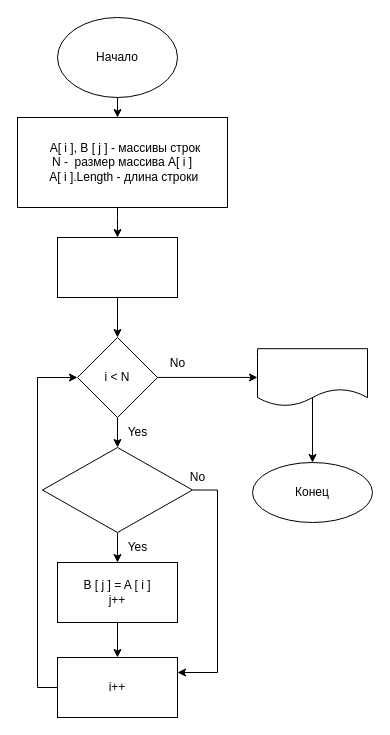
This 390x735 diagram has some shape labels left out. Each missing label, with the centre of its shape:
A[ i ].Length <= size: [117,489]
i=0 j = 0 size = 3: [117,267]
string [ ] B: [312,377]
